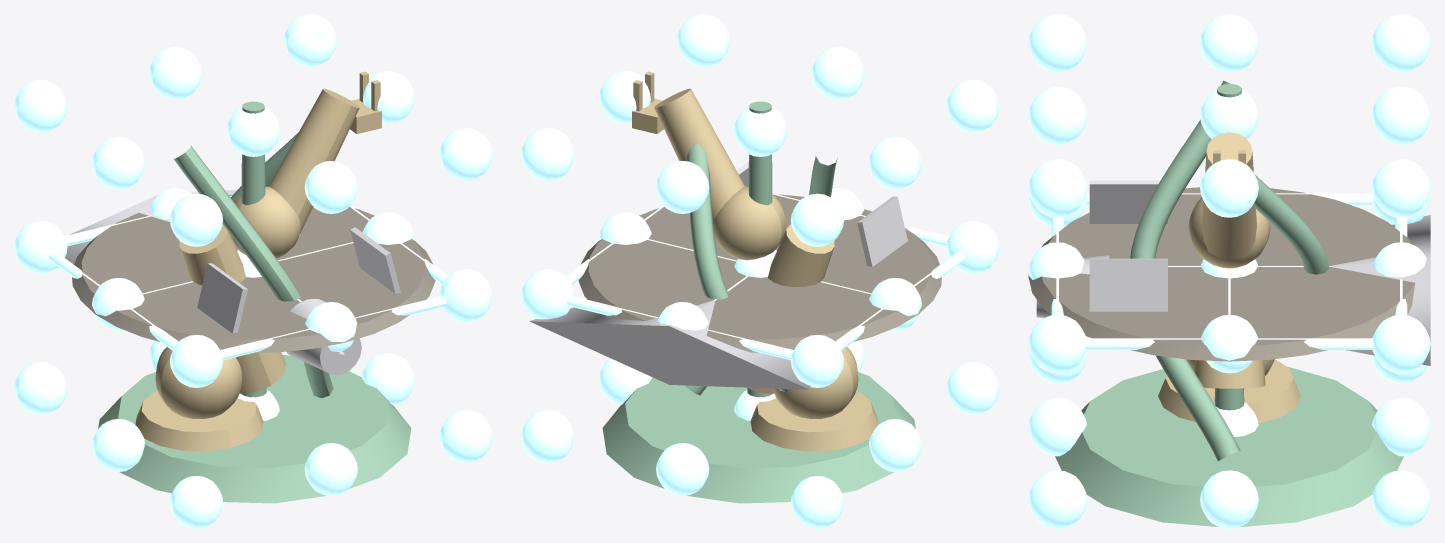
Rendered from world03-quadrants.glb.
The picture shows the model from 3 angles, left to right: view 1: azimuth 30°, elevation 25°; view 2: azimuth 150°, elevation 25°; view 3: azimuth 270°, elevation 25°; orthographic projection. The views are drawn at different scales.
Parts seen in each view (by area): view 1: SM_Quad_Cognitive, SM_Quad_Sustainability, SM_Quad_Rotunda, SM_Quad_Robotics, SM_Quad_Aerospace; view 2: SM_Quad_Cognitive, SM_Quad_Rotunda, SM_Quad_Sustainability, SM_Quad_Robotics, SM_Quad_Aerospace; view 3: SM_Quad_Cognitive, SM_Quad_Sustainability, SM_Quad_Rotunda, SM_Quad_Aerospace, SM_Quad_Robotics.
Boxes of the visible parts, x1,y1,x2,y2 form: SM_Quad_Cognitive: (14, 14, 492, 528); SM_Quad_Sustainability: (98, 101, 411, 503); SM_Quad_Rotunda: (72, 194, 435, 352); SM_Quad_Robotics: (135, 71, 381, 451); SM_Quad_Aerospace: (58, 190, 400, 374); SM_Quad_Cognitive: (521, 14, 999, 528); SM_Quad_Rotunda: (578, 194, 941, 352); SM_Quad_Sustainability: (602, 101, 915, 503); SM_Quad_Robotics: (632, 71, 878, 451); SM_Quad_Aerospace: (529, 161, 907, 389); SM_Quad_Cognitive: (1028, 14, 1430, 528); SM_Quad_Sustainability: (1055, 80, 1403, 527); SM_Quad_Rotunda: (1028, 187, 1415, 361); SM_Quad_Aerospace: (1029, 180, 1430, 365); SM_Quad_Robotics: (1158, 132, 1300, 423).
Size of the model in its own units: 2 by 2 by 2.
